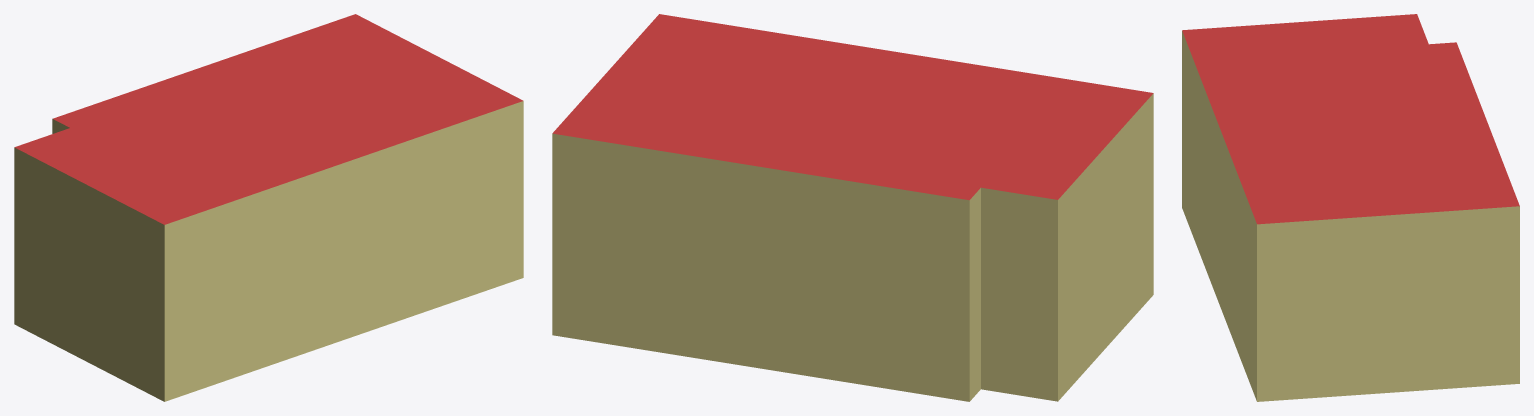
3 views of the same model, side by side, from view 1: azimuth 30°, elevation 25°; view 2: azimuth 150°, elevation 25°; view 3: azimuth 270°, elevation 25° (orthographic). The views are drawn at different scales.
Bounding box in the file's own units: 25.46 × 17.28 × 10.02.
